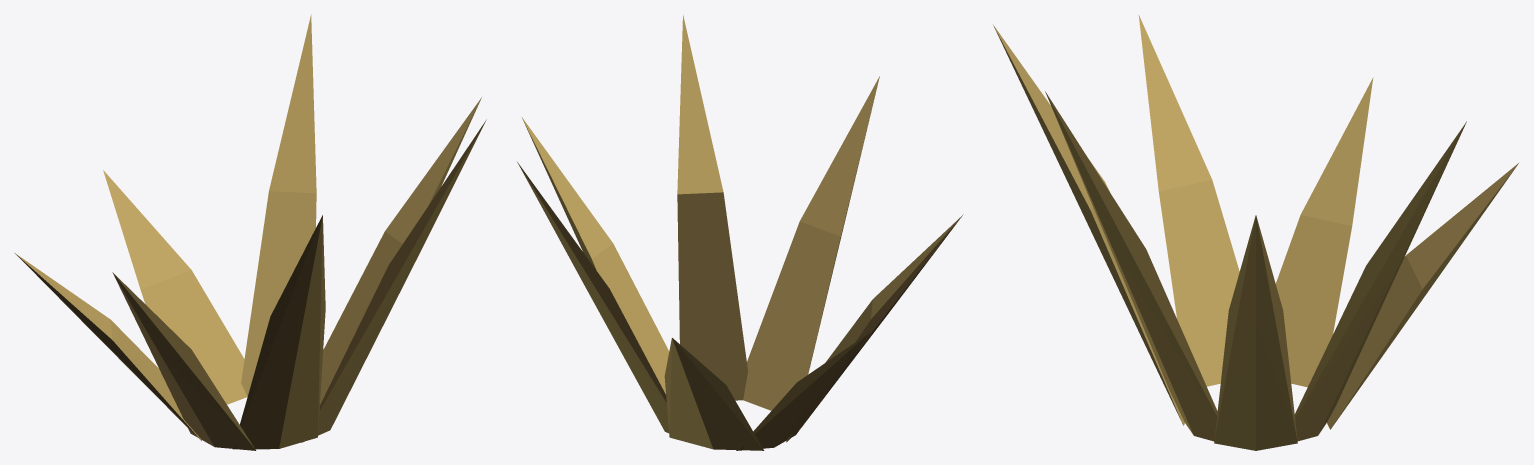
The model's file is TW_GRASS_TUFT_A_LOD0.glb.
3 views of the same model, side by side, from view 1: azimuth 30°, elevation 25°; view 2: azimuth 150°, elevation 25°; view 3: azimuth 270°, elevation 25° (orthographic). The views are drawn at different scales.
Parts seen in each view (by area): view 1: TW_GRASS_TUFT_A_LOD0; view 2: TW_GRASS_TUFT_A_LOD0; view 3: TW_GRASS_TUFT_A_LOD0.
Boxes of the visible parts, x1,y1,x2,y2 form: TW_GRASS_TUFT_A_LOD0: [15, 14, 486, 450]; TW_GRASS_TUFT_A_LOD0: [517, 15, 963, 450]; TW_GRASS_TUFT_A_LOD0: [993, 15, 1519, 450].
Bounding box in the file's own units: 0.55 × 0.42 × 0.5.
Materials: 1 (1 with a texture image).
